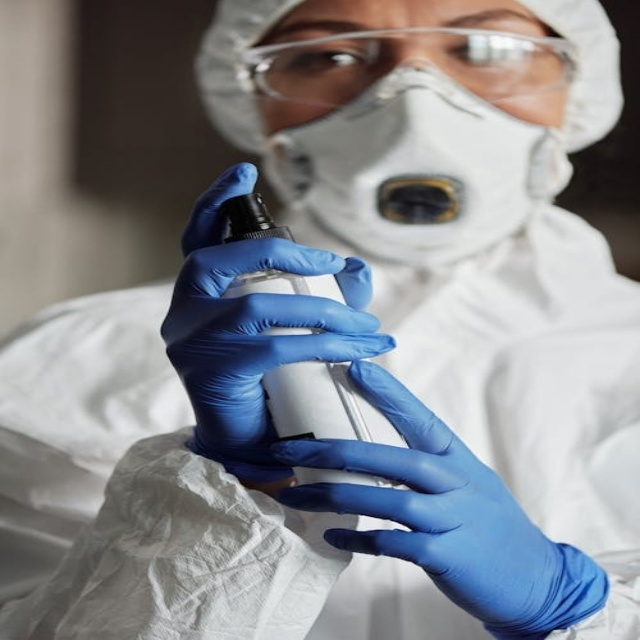Gafas: (235, 27, 580, 108)
Guantes: (265, 359, 608, 637), (172, 151, 369, 466)
Mascara: (267, 71, 564, 267)
